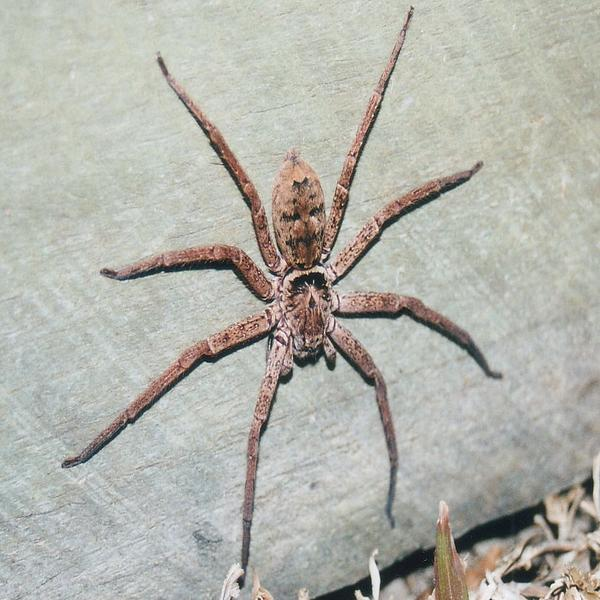Huntsman Spider: (89, 9, 475, 539)
